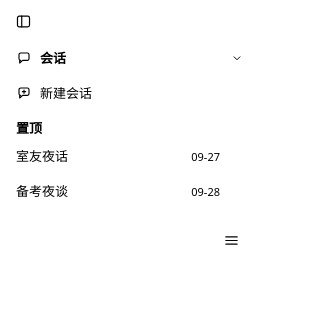
Sidebar (手风琴侧栏 v2) › 右键呼出菜单: contextmenu preventDefault + 会话菜单在场 (固定弹出), Escape 关闭
Right-click the list item "备考夜谈 09-28".
right_click(118, 192)  # box [16,181,220,202]
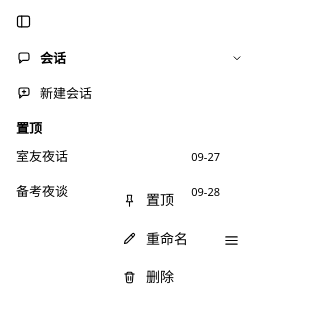
expect the menu named "会话菜单" is shown: met, box [104,175,252,302]
expect the menu item "置顶" is shown: met, box [110,181,246,220]
Press Escape
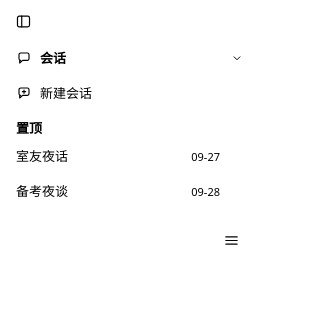
expect the menu is gone: met
